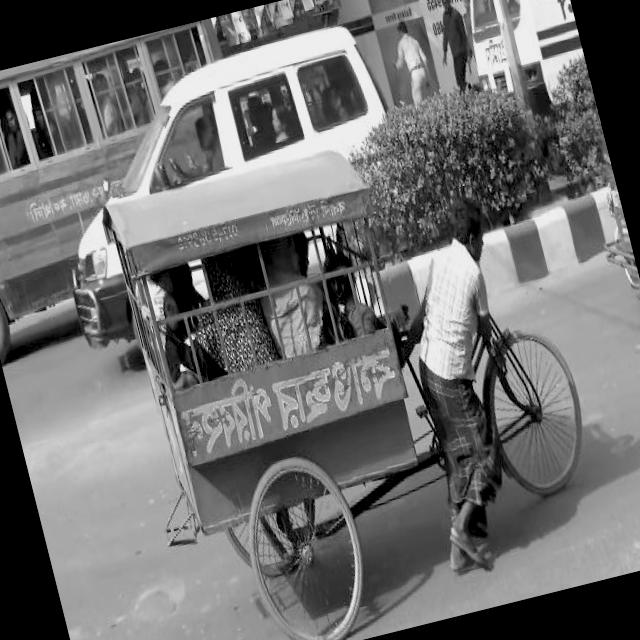bus: (0, 16, 284, 366), (448, 0, 600, 148)
motorcycle: (576, 130, 640, 313)
truck: (23, 16, 430, 359)
